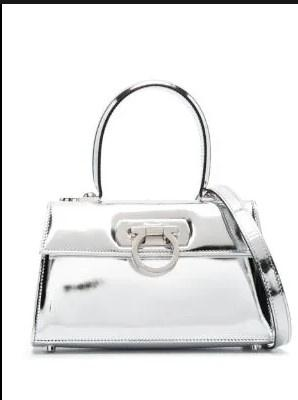FERRAGAMO: (112, 213, 194, 278)
